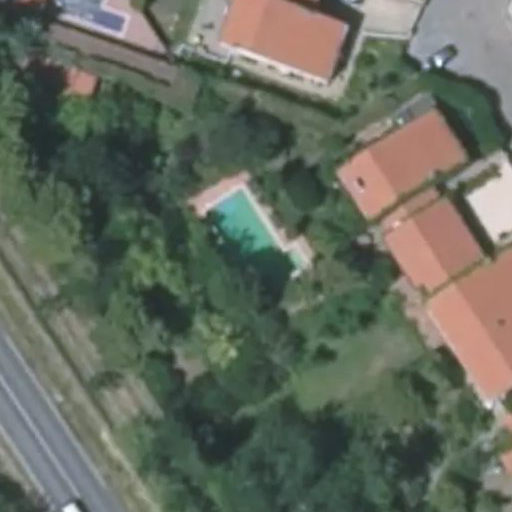pool: (204, 213, 307, 264)
